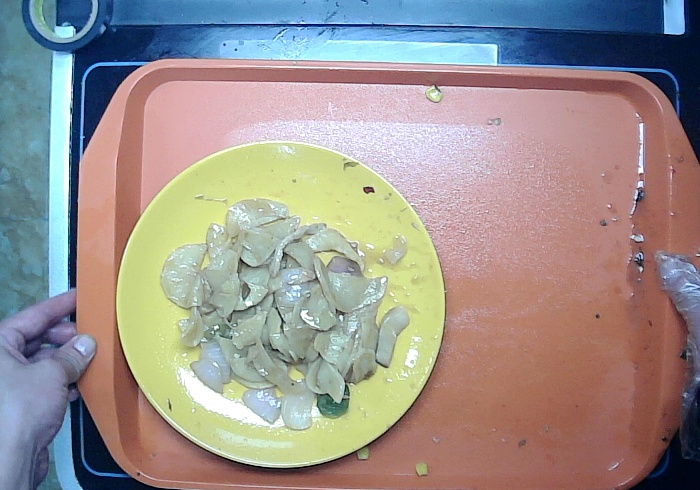HZYJPL-Huang_Se_Yuan_Pan: (75, 121, 441, 481)
